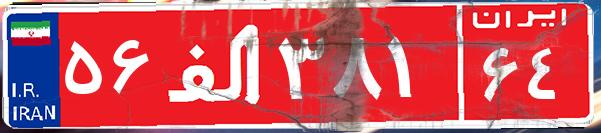1: (385, 28, 445, 110)
3: (273, 28, 330, 110)
4: (525, 38, 570, 115)
5: (57, 26, 110, 107)
6: (475, 38, 525, 113), (110, 28, 158, 105)
8: (330, 28, 385, 110)
الف: (158, 15, 273, 115)
